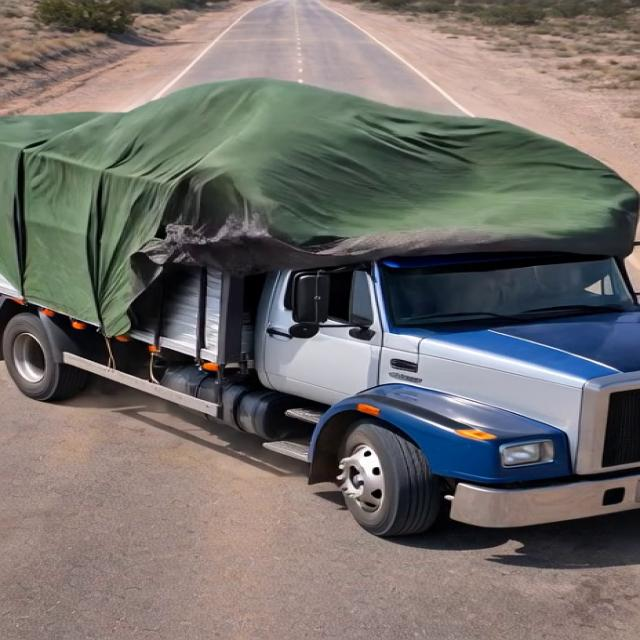Box: (0, 76, 631, 218)
Truck: (2, 54, 639, 522)
